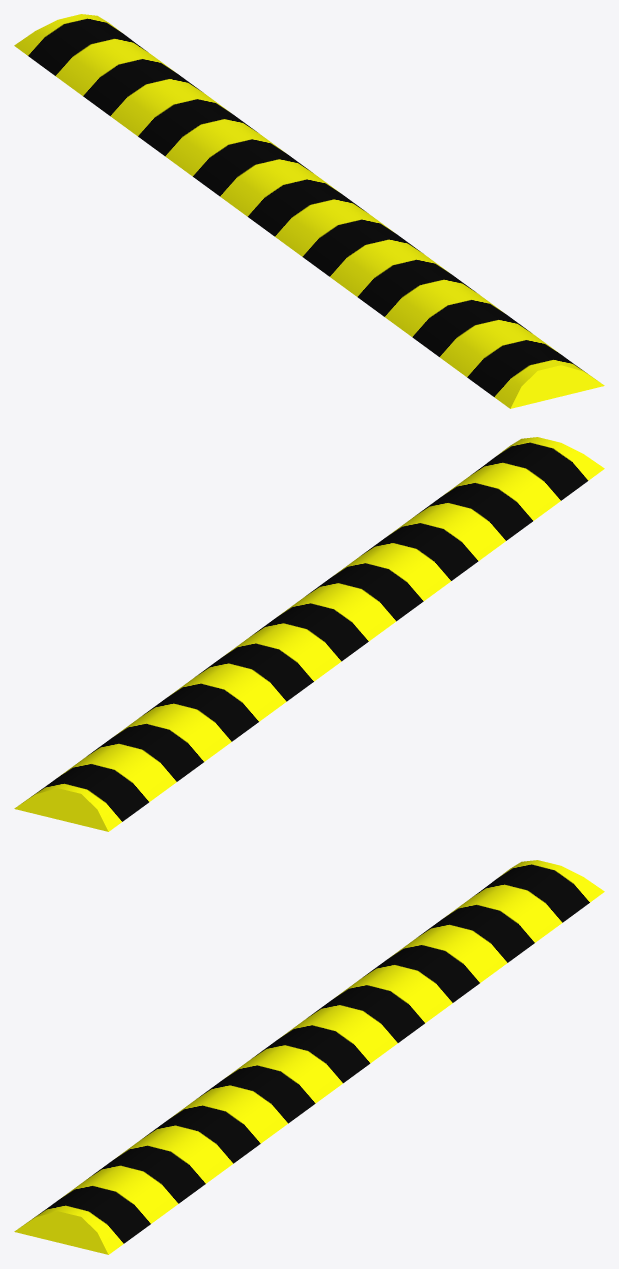
File: sm_stob_jiansudai_d.fbx
3 views of the same model, one above another, from view 1: azimuth 30°, elevation 25°; view 2: azimuth 150°, elevation 25°; view 3: azimuth 330°, elevation 25° (orthographic).
Parts seen in each view (by area): view 1: sm_stob_jiansudai_d; view 2: sm_stob_jiansudai_d; view 3: sm_stob_jiansudai_d.
Part boxes in pixels (x1=…): sm_stob_jiansudai_d: x1=14, y1=14, x2=604, y2=408; sm_stob_jiansudai_d: x1=14, y1=437, x2=604, y2=831; sm_stob_jiansudai_d: x1=14, y1=860, x2=604, y2=1254.
Bounding box in the file's own units: 0.3525 × 0.0845 × 3.2.
